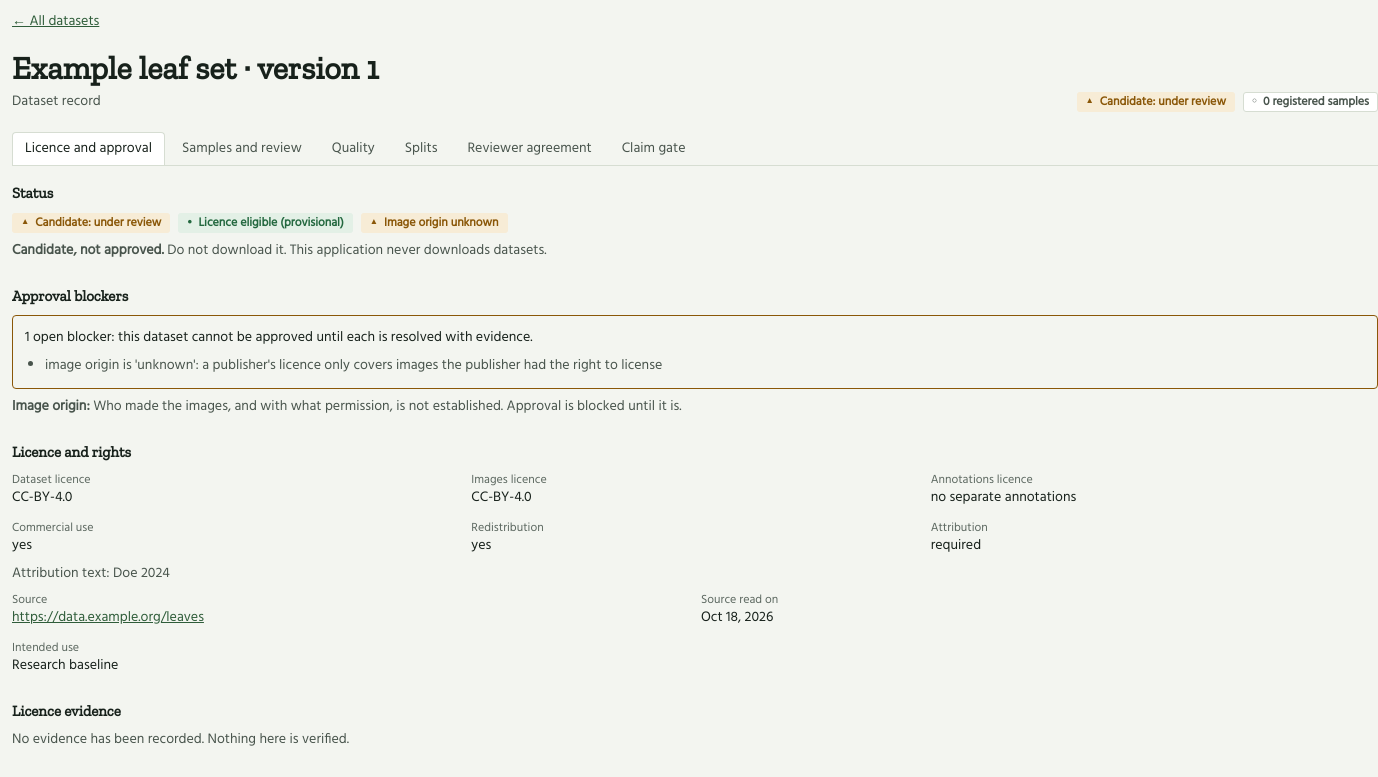
dataset detail: quality, splits, agreement and claims › shows split versions with leakage status, warnings and no fabricated numbers
Step 1. Click the tab "Splits" → (421, 148), box x1=392 y1=132 x2=450 y2=165
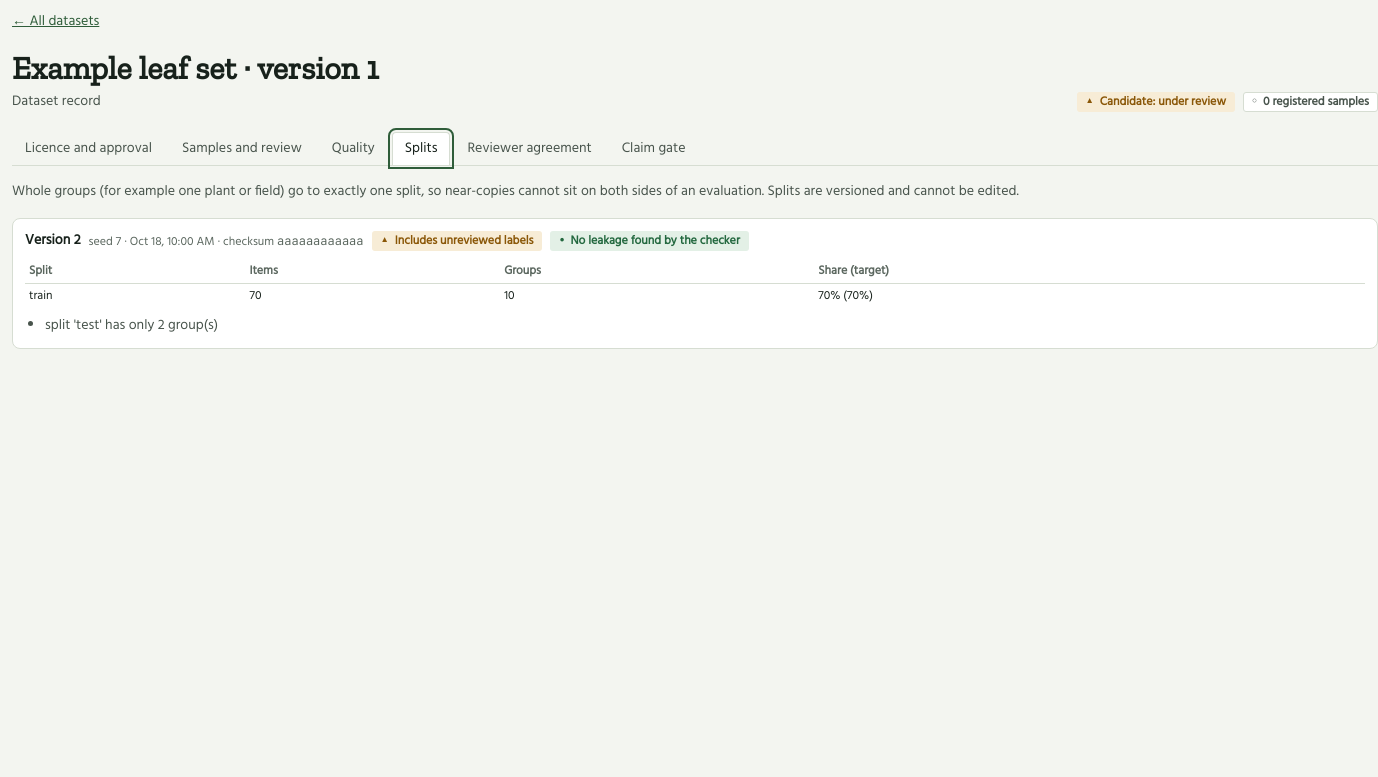
Now the text "Version 2" is shown, box x1=25 y1=231 x2=81 y2=251
Now the text "Includes unreviewed labels" is shown, box x1=395 y1=231 x2=533 y2=251
Now the text "No leakage found by the checker" is shown, box x1=570 y1=231 x2=740 y2=251
